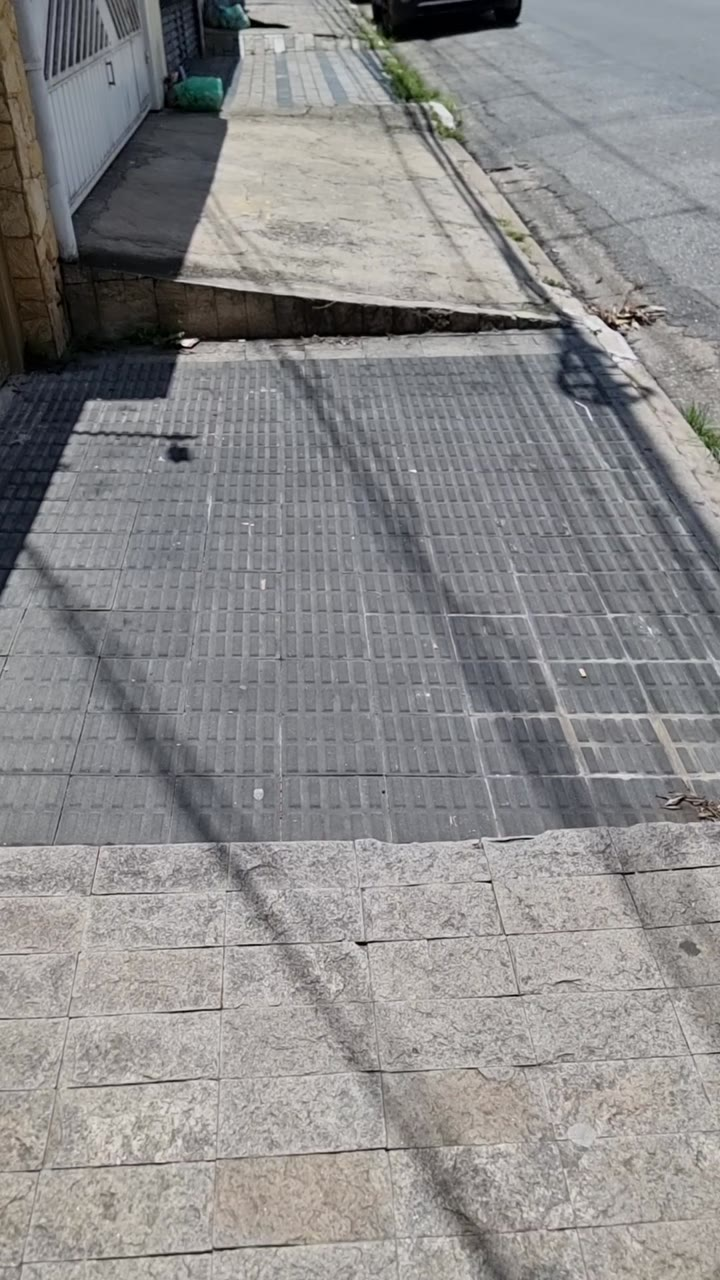desnivel: (58, 307, 648, 422)
obstaculo: (173, 115, 238, 205)
